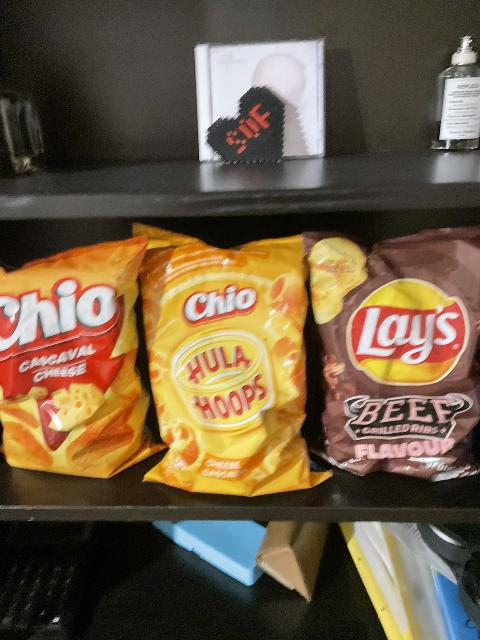Chio Cascaval 125g: (2, 234, 161, 472)
Chio Hula Hoops Cheese 70g: (135, 232, 329, 495)
Lays Beef Grilled Ribs 125g: (297, 223, 480, 489)
